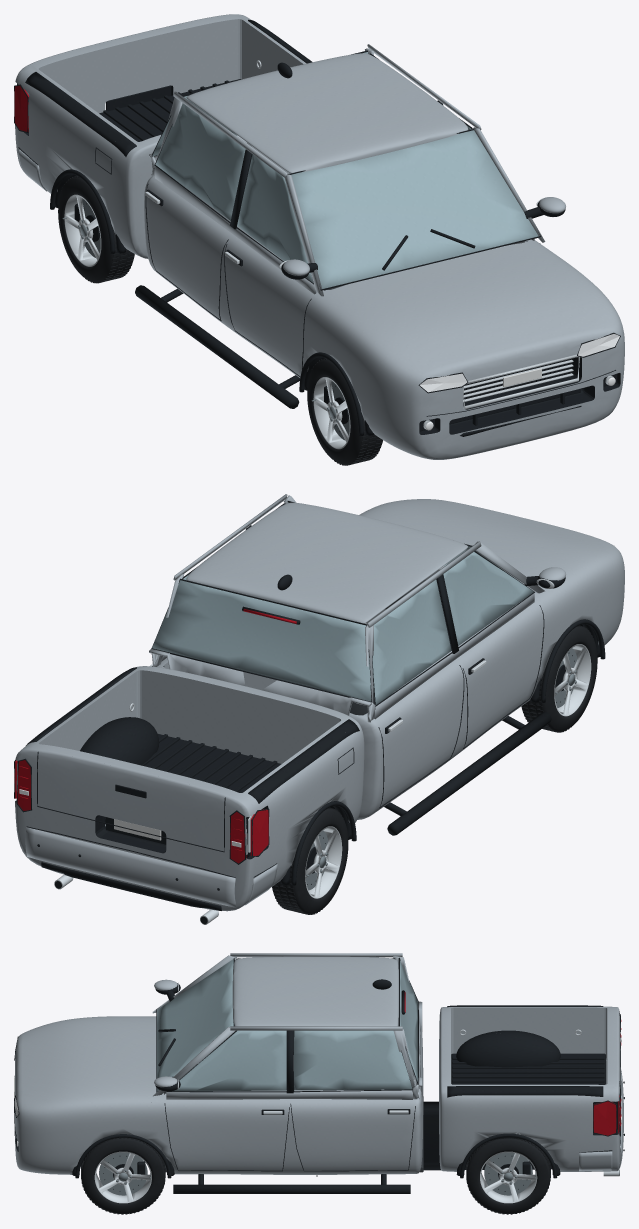
File: pickup.fbx
The picture shows the model from 3 angles, top to bottom: view 1: azimuth 30°, elevation 25°; view 2: azimuth 150°, elevation 25°; view 3: azimuth 270°, elevation 25°; orthographic projection. The views are drawn at different scales.
Visible parts, largest first — view 1: Body, Wheel_RL, Wheel_FL; view 2: Body, Damage_Rear_Bumper, Wheel_RL, Wheel_FL; view 3: Body, Wheel_RR, Wheel_FR, Damage_Rear_Bumper.
Boxes of the visible parts, bbox=[...] form: Body: bbox=[14, 14, 624, 465]; Wheel_RL: bbox=[58, 177, 134, 282]; Wheel_FL: bbox=[307, 359, 382, 465]; Body: bbox=[14, 494, 624, 924]; Damage_Rear_Bumper: bbox=[25, 826, 277, 907]; Wheel_RL: bbox=[272, 808, 348, 914]; Wheel_FL: bbox=[521, 626, 597, 732]; Body: bbox=[14, 953, 624, 1214]; Wheel_RR: bbox=[466, 1138, 550, 1213]; Wheel_FR: bbox=[81, 1137, 165, 1213]; Damage_Rear_Bumper: bbox=[579, 1070, 623, 1171].
Size of the model in its own units: 2.32 by 1.96 by 5.69.
